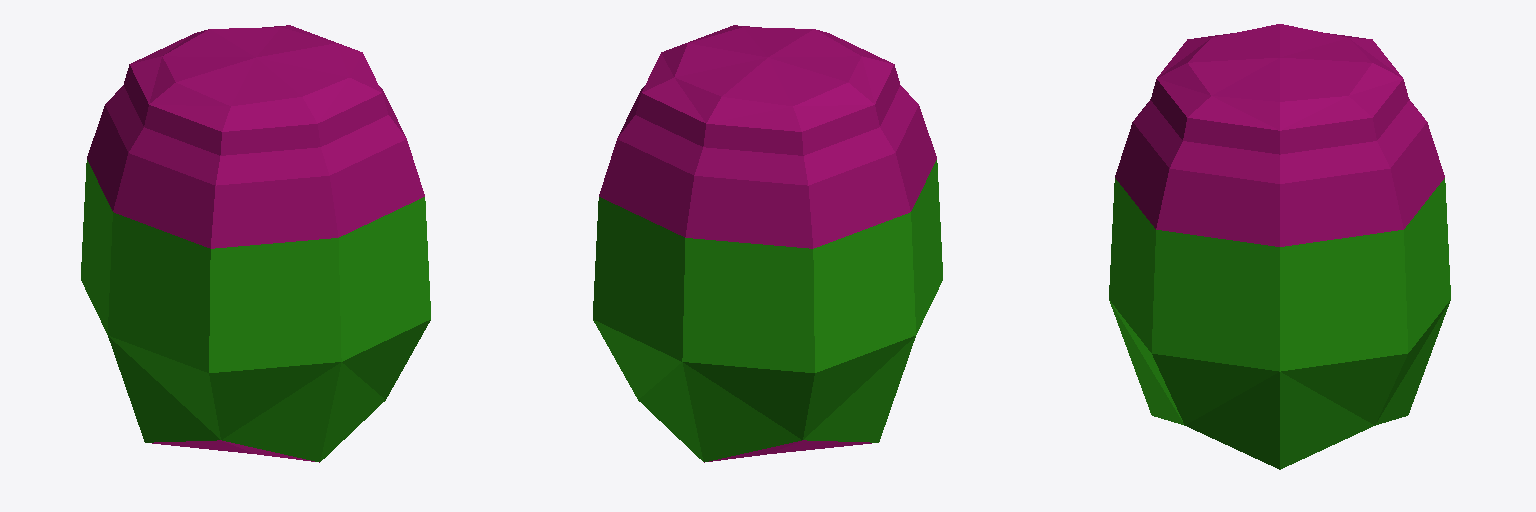
File: superfinal.obj
The picture shows the model from 3 angles: view 1: azimuth 30°, elevation 25°; view 2: azimuth 150°, elevation 25°; view 3: azimuth 270°, elevation 25°; orthographic projection.
Visible parts, largest first — view 1: Cube; view 2: Cube; view 3: Cube.
Part boxes in pixels (left/top/right/bottom): Cube: left=81, top=25, right=430, bottom=462; Cube: left=593, top=25, right=942, bottom=462; Cube: left=1109, top=24, right=1450, bottom=469.
Bounding box in the file's own units: 2 × 2.56 × 2.